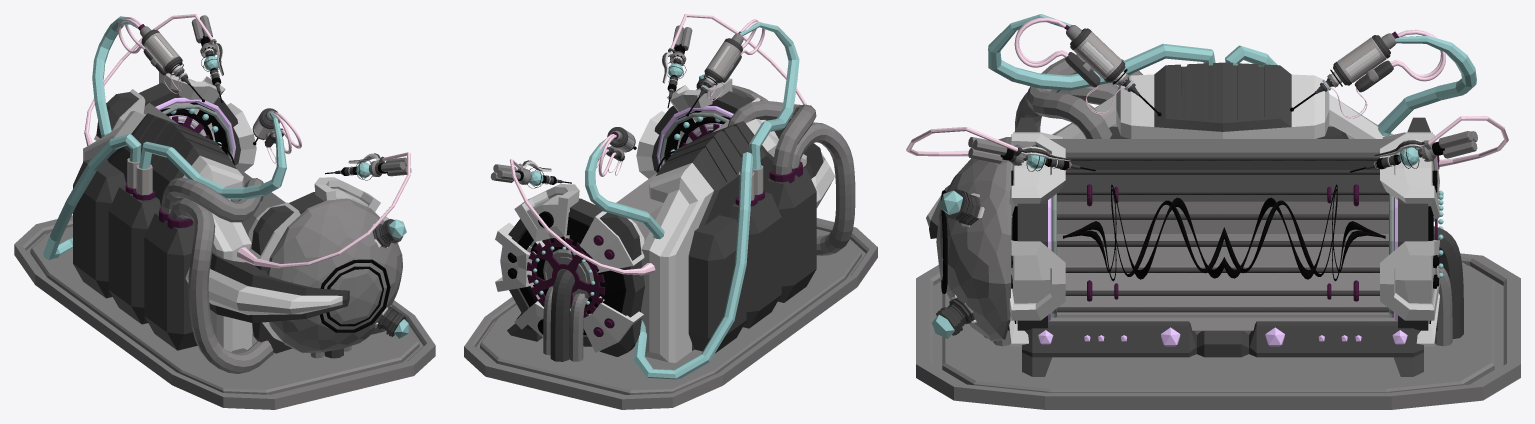
Rendered from st2_thorn castle (1).fbx.
The picture shows the model from 3 angles, left to right: view 1: azimuth 30°, elevation 25°; view 2: azimuth 150°, elevation 25°; view 3: azimuth 270°, elevation 25°; orthographic projection. The views are drawn at different scales.
Parts seen in each view (by area): view 1: 1_thorn_stick_castle_main_45, 1_thorn_stick_castle_main_19, 1_thorn_stick_castle_main_25, 1_thorn_stick_castle_main_36, 1_thorn_stick_castle_main_42, 1_thorn_stick_castle_main_3, 1_thorn_stick_castle_main_18, 1_thorn_stick_castle_main_34, 1_thorn_stick_castle_main_17, 1_thorn_stick_castle_main_16, 1_thorn_stick_castle_main_13, 1_thorn_stick_castle_main_1 (+14 smaller); view 2: 1_thorn_stick_castle_main_45, 1_thorn_stick_castle_main_19, 1_thorn_stick_castle_main_3, 1_thorn_stick_castle_main_18, 1_thorn_stick_castle_main_42, 1_thorn_stick_castle_main_36, 1_thorn_stick_castle_main_34, 1_thorn_stick_castle_main_1, 1_thorn_stick_castle_main_41, 1_thorn_stick_castle_main_21, 1_thorn_stick_castle_main_2, 1_thorn_stick_castle_main_13 (+15 smaller); view 3: 1_thorn_stick_castle_main_9, 1_thorn_stick_castle_main_45, 1_thorn_stick_castle_main_3, 1_thorn_stick_castle_main_20, 1_thorn_stick_castle_main_23, 1_thorn_stick_castle_main_25, 1_thorn_stick_castle_main_34, 1_thorn_stick_castle_main_18, 1_thorn_stick_castle_main_42, 0_thorn_stick_base, 1_thorn_stick_castle_main_36, 1_thorn_stick_castle_main_1 (+16 smaller).
Boxes of the visible parts, x1=… form: 1_thorn_stick_castle_main_45: x1=14, y1=215, x2=435, y2=409; 1_thorn_stick_castle_main_19: x1=73, y1=159, x2=197, y2=350; 1_thorn_stick_castle_main_25: x1=266, y1=198, x2=402, y2=353; 1_thorn_stick_castle_main_36: x1=161, y1=177, x2=274, y2=373; 1_thorn_stick_castle_main_42: x1=43, y1=16, x2=286, y2=259; 1_thorn_stick_castle_main_3: x1=94, y1=72, x2=389, y2=341; 1_thorn_stick_castle_main_18: x1=83, y1=111, x2=251, y2=353; 1_thorn_stick_castle_main_34: x1=107, y1=113, x2=236, y2=206; 1_thorn_stick_castle_main_17: x1=185, y1=268, x2=342, y2=315; 1_thorn_stick_castle_main_16: x1=209, y1=252, x2=349, y2=323; 1_thorn_stick_castle_main_13: x1=96, y1=92, x2=293, y2=353; 1_thorn_stick_castle_main_1: x1=139, y1=82, x2=323, y2=271; 1_thorn_stick_castle_main_45: x1=464, y1=218, x2=877, y2=409; 1_thorn_stick_castle_main_19: x1=688, y1=167, x2=816, y2=353; 1_thorn_stick_castle_main_3: x1=495, y1=78, x2=778, y2=352; 1_thorn_stick_castle_main_18: x1=641, y1=119, x2=806, y2=362; 1_thorn_stick_castle_main_42: x1=585, y1=22, x2=799, y2=379; 1_thorn_stick_castle_main_36: x1=727, y1=100, x2=855, y2=255; 1_thorn_stick_castle_main_34: x1=656, y1=121, x2=773, y2=350; 1_thorn_stick_castle_main_1: x1=508, y1=91, x2=751, y2=346; 1_thorn_stick_castle_main_41: x1=526, y1=237, x2=605, y2=317; 1_thorn_stick_castle_main_21: x1=550, y1=269, x2=574, y2=361; 1_thorn_stick_castle_main_2: x1=517, y1=110, x2=701, y2=334; 1_thorn_stick_castle_main_13: x1=599, y1=100, x2=788, y2=356; 1_thorn_stick_castle_main_9: x1=1048, y1=139, x2=1397, y2=334; 1_thorn_stick_castle_main_45: x1=916, y1=253, x2=1520, y2=409; 1_thorn_stick_castle_main_3: x1=1009, y1=132, x2=1439, y2=346; 1_thorn_stick_castle_main_20: x1=1022, y1=321, x2=1423, y2=376; 1_thorn_stick_castle_main_23: x1=1057, y1=157, x2=1388, y2=312; 1_thorn_stick_castle_main_25: x1=936, y1=137, x2=1011, y2=341; 1_thorn_stick_castle_main_34: x1=1154, y1=62, x2=1291, y2=131; 1_thorn_stick_castle_main_18: x1=1052, y1=74, x2=1393, y2=138; 1_thorn_stick_castle_main_42: x1=988, y1=14, x2=1476, y2=136; 0_thorn_stick_base: x1=1062, y1=184, x2=1385, y2=281; 1_thorn_stick_castle_main_36: x1=1011, y1=54, x2=1142, y2=226; 1_thorn_stick_castle_main_1: x1=1017, y1=198, x2=1428, y2=330.
Size of the model in its own units: 466 by 448 by 808.
